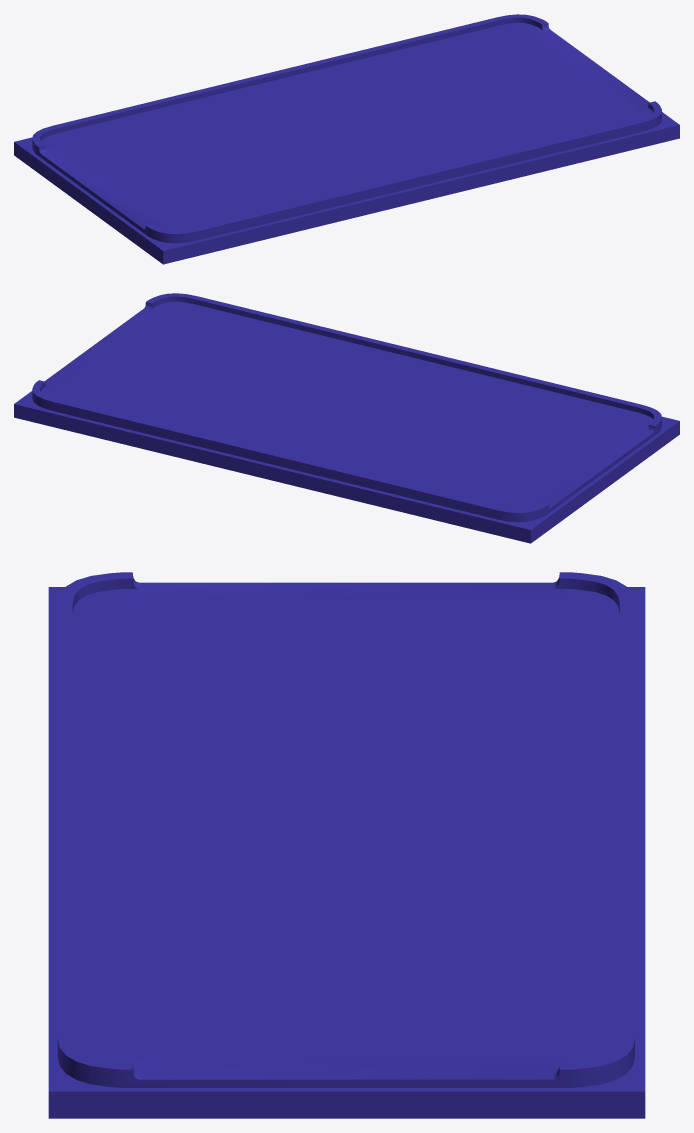
Rendered from Floor_N_B_Dbl.FBX.
The picture shows the model from 3 angles, top to bottom: view 1: azimuth 30°, elevation 25°; view 2: azimuth 150°, elevation 25°; view 3: azimuth 270°, elevation 25°; orthographic projection. The views are drawn at different scales.
Visible parts, largest first — view 1: Floor_N_B_Dbl; view 2: Floor_N_B_Dbl; view 3: Floor_N_B_Dbl.
Boxes of the visible parts, x1=… form: Floor_N_B_Dbl: x1=14, y1=14, x2=679, y2=264; Floor_N_B_Dbl: x1=14, y1=293, x2=679, y2=543; Floor_N_B_Dbl: x1=48, y1=572, x2=645, y2=1118.
Size of the model in its own units: 400 by 16.79 by 200.
